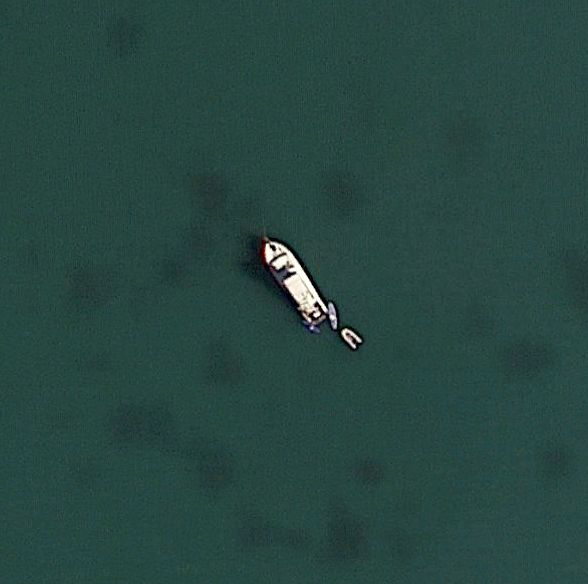boat: (255, 232, 333, 334)
